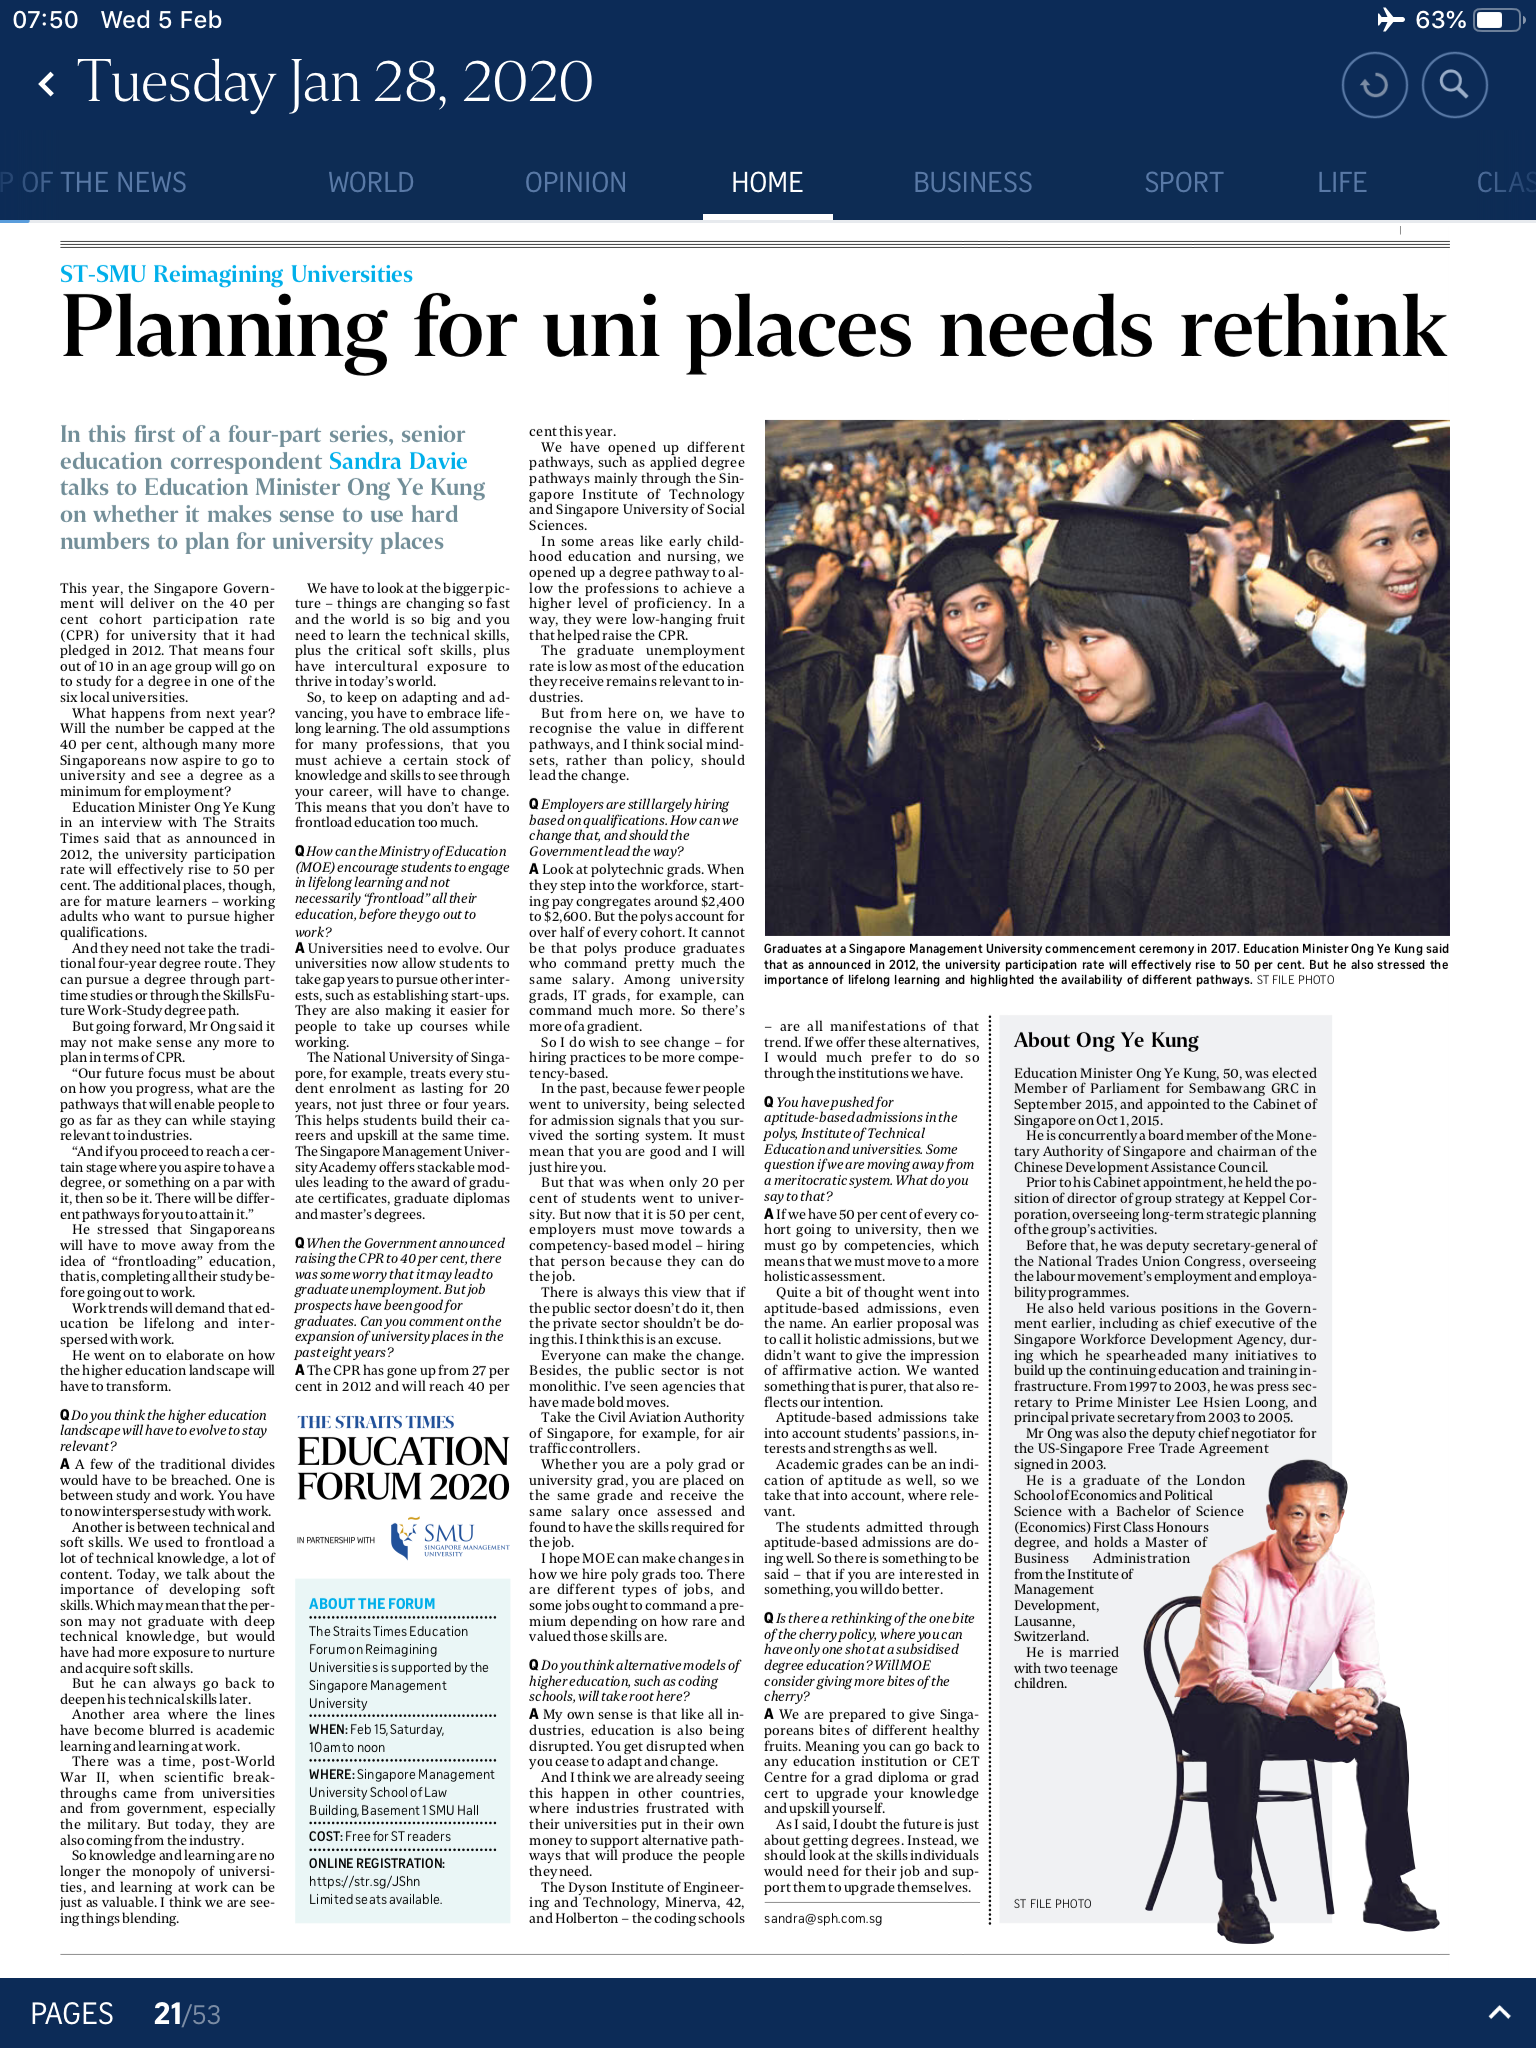Headline: (58, 290, 1446, 377)
Illustration: (765, 939, 1449, 992)
Image: (768, 419, 1449, 934), (1144, 1458, 1441, 1945), (294, 1413, 518, 1924)
Text: (524, 419, 749, 1927), (63, 579, 278, 1929), (1010, 1032, 1318, 1693), (760, 1022, 978, 1896), (294, 579, 513, 1397)
